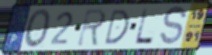2: (49, 10, 76, 46)
D: (103, 8, 131, 46)
L: (133, 8, 155, 46)
O: (23, 8, 53, 50)
R: (76, 7, 109, 48)
S: (158, 5, 188, 48)
